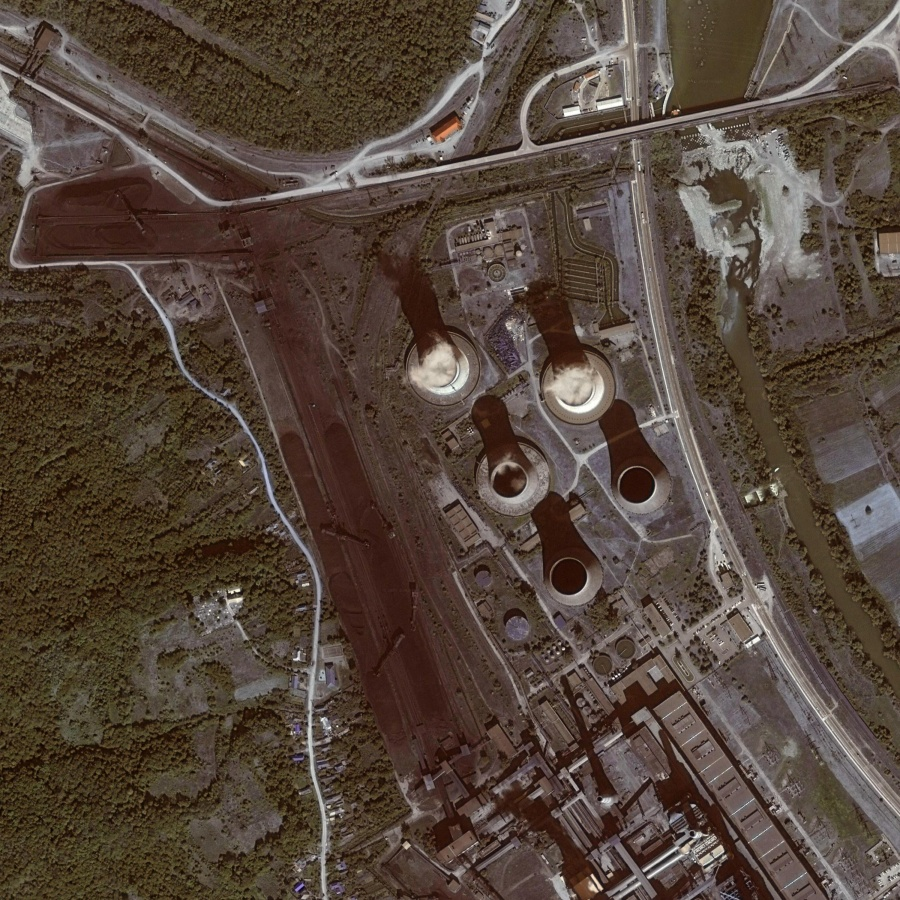PowerPlant: (244, 208, 684, 752)
